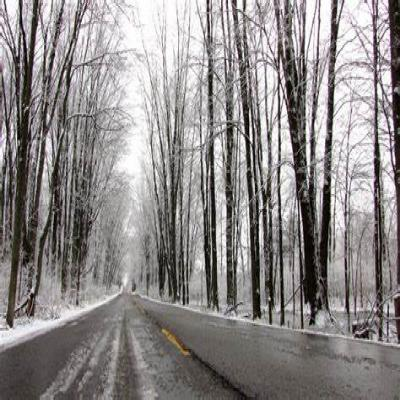iced-road: (0, 293, 400, 400)
